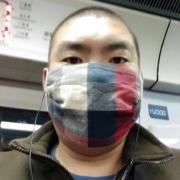Mask: (47, 38, 157, 148)
